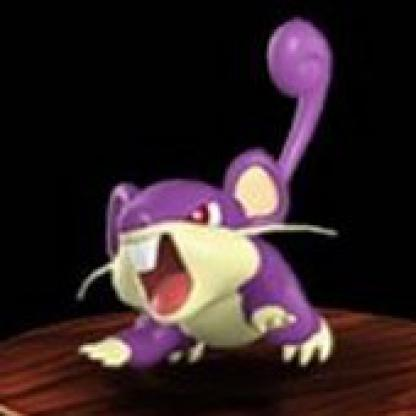Rattata: (61, 15, 361, 370)
